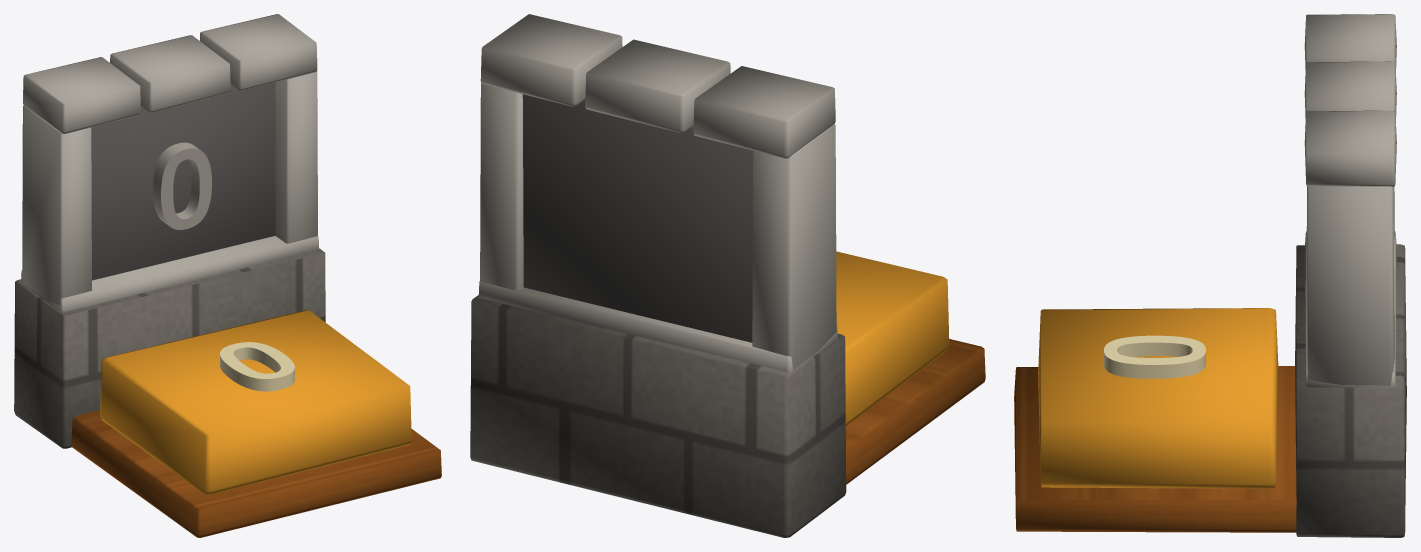
The model's file is 31_array_tile_0.glb.
The picture shows the model from 3 angles, left to right: view 1: azimuth 30°, elevation 25°; view 2: azimuth 150°, elevation 25°; view 3: azimuth 270°, elevation 25°; orthographic projection. The views are drawn at different scales.
Visible parts, largest first — view 1: GoldBlock, WallBackPanel, WallPlinth, TileBase, WallPillar_-1, WallPillar_1, WallTopCap_0, WallTopCap_1, WallSill, WallTopCap_2, WallDigit, TileDigit; view 2: WallPlinth, WallBackPanel, WallPillar_-1, GoldBlock, WallTopCap_0, WallTopCap_1, WallPillar_1, WallTopCap_2, TileBase, WallSill; view 3: GoldBlock, WallPlinth, TileBase, WallPillar_1, WallTopCap_2, WallTopCap_1, WallTopCap_0, TileDigit, WallSill.
Part boxes in pixels (x1,y1,x2,y2): GoldBlock: (100, 310, 411, 494); WallBackPanel: (91, 82, 275, 280); WallPlinth: (14, 248, 325, 448); TileBase: (71, 410, 441, 537); WallPillar_-1: (22, 105, 91, 305); WallPillar_1: (275, 71, 317, 243); WallTopCap_0: (22, 57, 140, 133); WallTopCap_1: (110, 35, 230, 112); WallSill: (21, 236, 319, 312); WallTopCap_2: (200, 14, 317, 90); WallDigit: (153, 142, 211, 229); TileDigit: (220, 342, 294, 391); WallPlinth: (470, 295, 846, 537); WallBackPanel: (522, 94, 753, 342); WallPillar_-1: (752, 124, 836, 369); GoldBlock: (836, 251, 949, 425); WallTopCap_0: (693, 66, 835, 158); WallTopCap_1: (585, 39, 730, 132); WallPillar_1: (480, 82, 523, 290); WallTopCap_2: (480, 14, 622, 106); TileBase: (845, 339, 985, 484); WallSill: (478, 281, 837, 372); GoldBlock: (1038, 308, 1278, 488); WallPlinth: (1295, 244, 1406, 537); TileBase: (1014, 366, 1296, 532); WallPillar_1: (1306, 186, 1394, 385); WallTopCap_2: (1304, 110, 1396, 186); WallTopCap_1: (1304, 61, 1396, 119); WallTopCap_0: (1304, 14, 1396, 70); TileDigit: (1104, 335, 1205, 378); WallSill: (1305, 231, 1396, 387).
Bounding box in the file's own units: 0.86 × 1.06 × 0.98.
6 materials, 2 textured.
